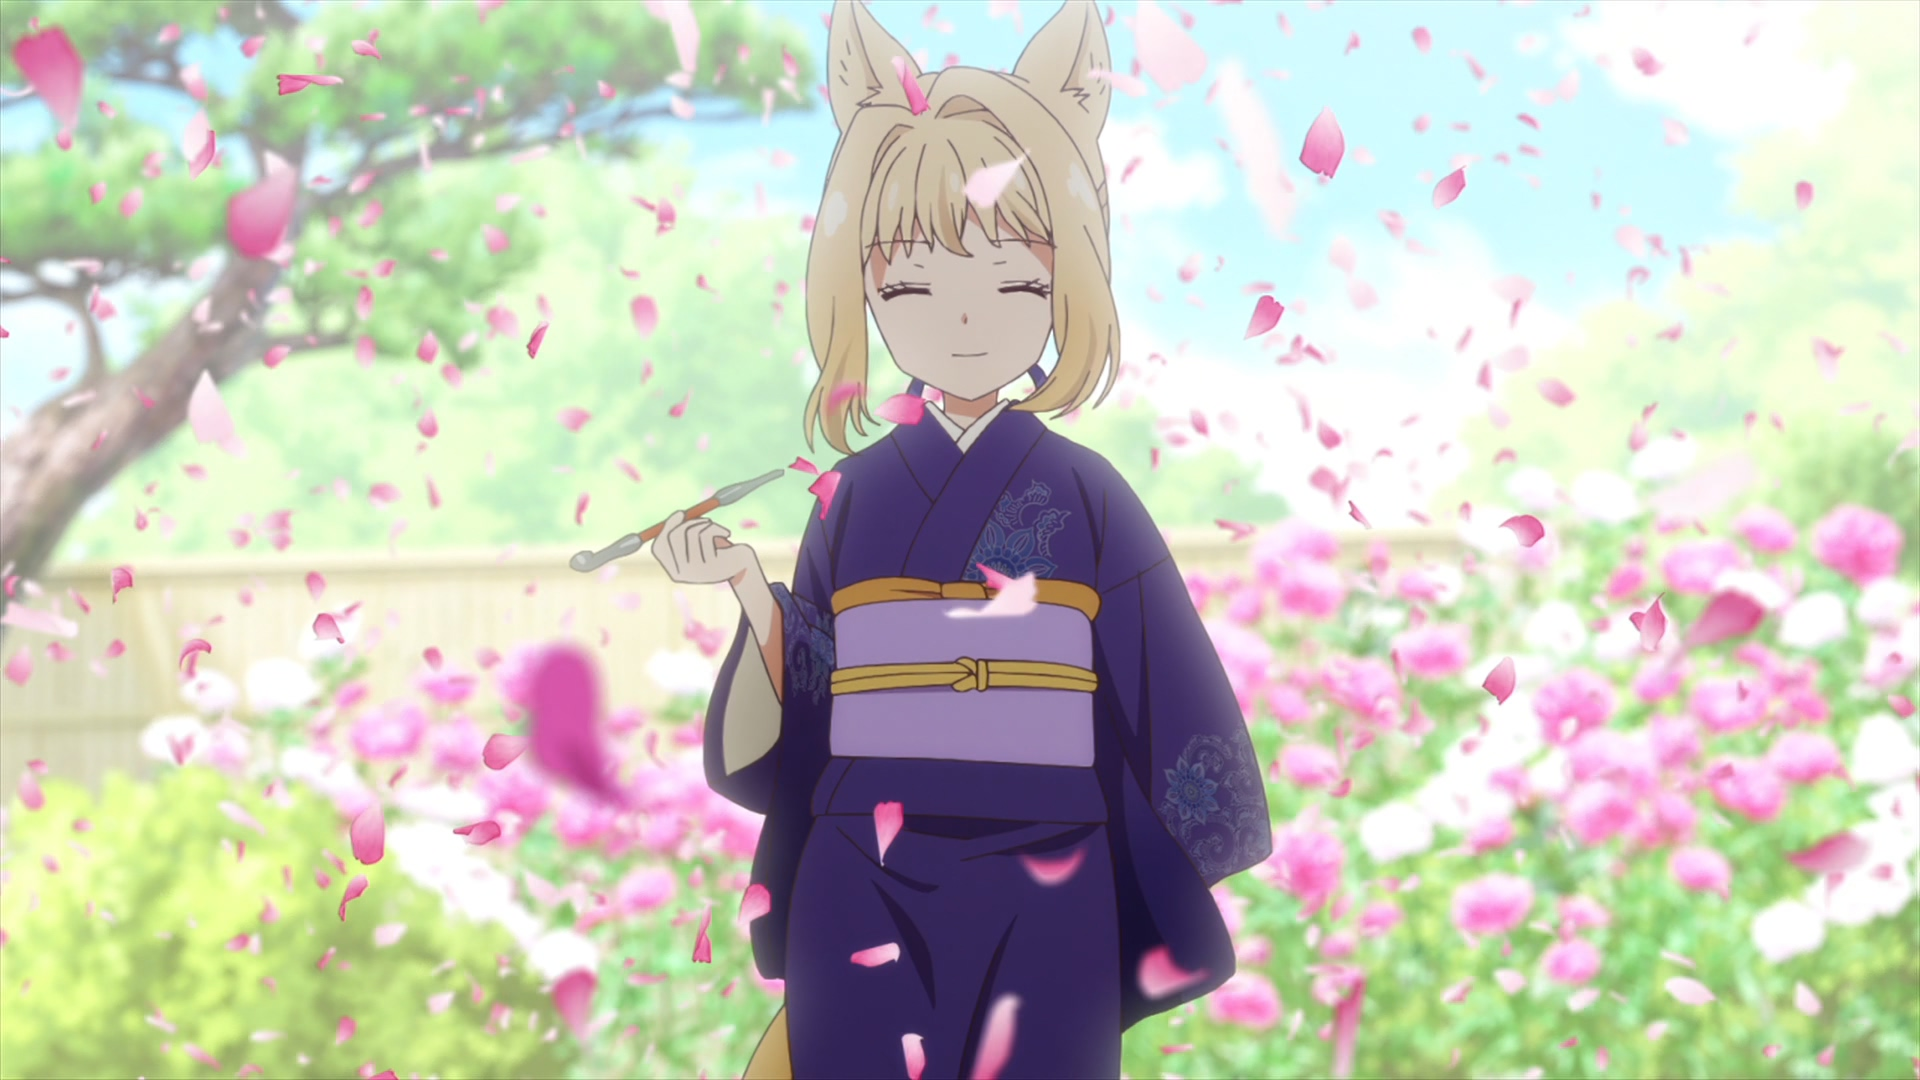桐: (651, 1, 1271, 1080)
